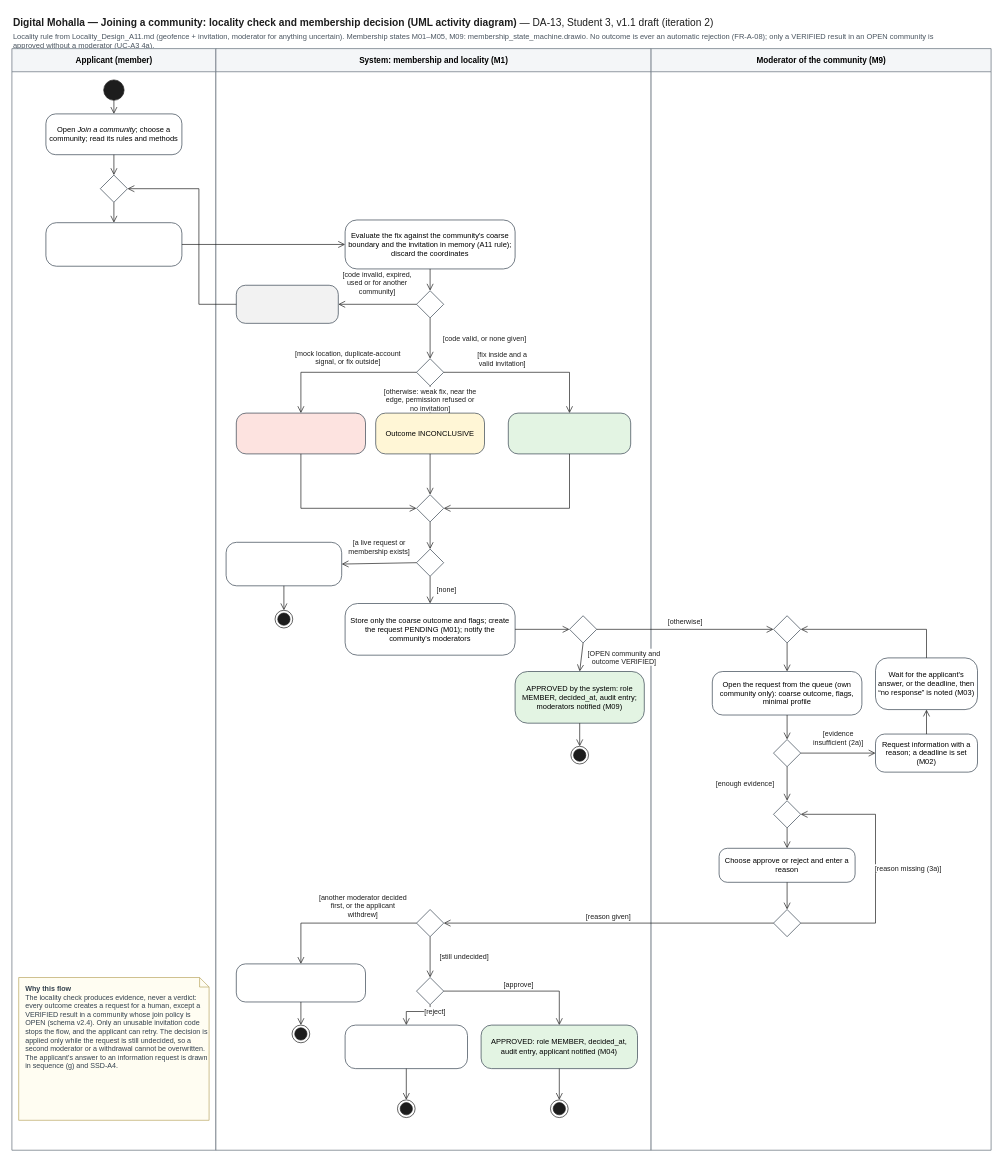
This 1003x1162 diagram has some shape labels left out. Each missing label, with the centre of its shape:
"Allow one coarse location fix (optional) and enter an invitation code (optional)" belongs at [113,244].
"Outcome CONFLICTING, flagged for the moderator" belongs at [301,433].
"Outcome VERIFIED" belongs at [569,433].
"REJECTED: reason, decided_at, audit entry, applicant notified (M05)" belongs at [406,1046].
"Show an error; no request is created" belongs at [287,304].
"Show the current status; apply nothing (UC-A4 4a, 4c)" belongs at [301,982].
"Show the existing request or membership; nothing new is created (UC-A3 4b)" belongs at [283,564].
